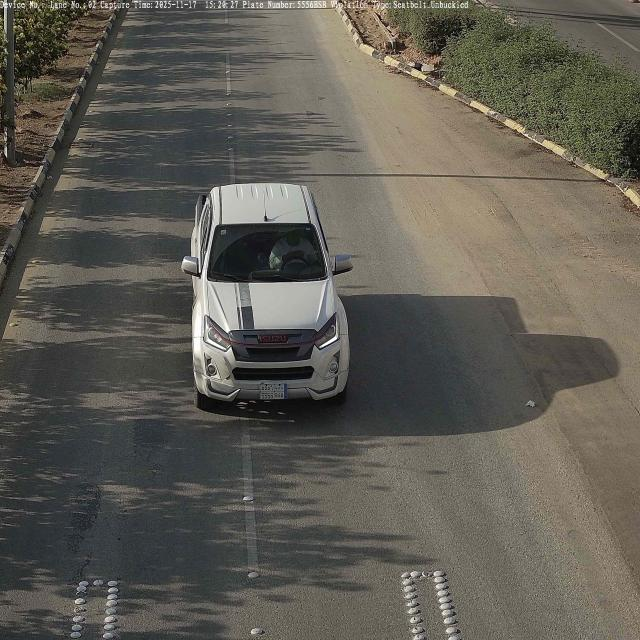person_without_seatbelt: (271, 230, 314, 271)
